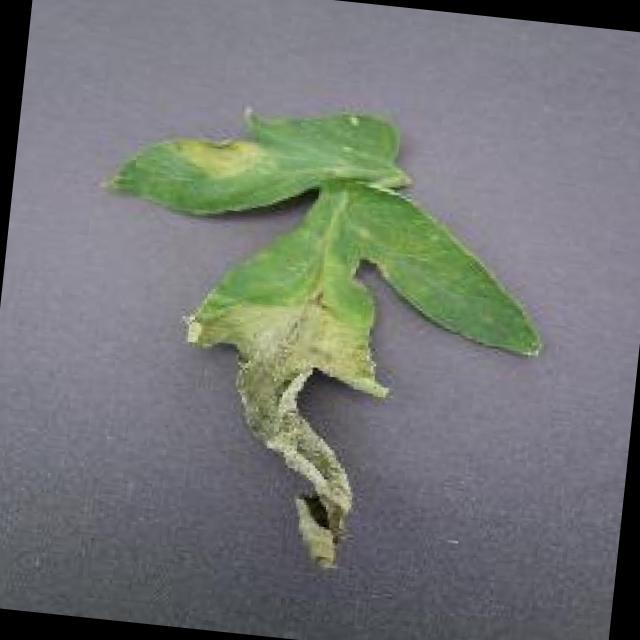Tomato_Late_Blight: (162, 264, 410, 578)
